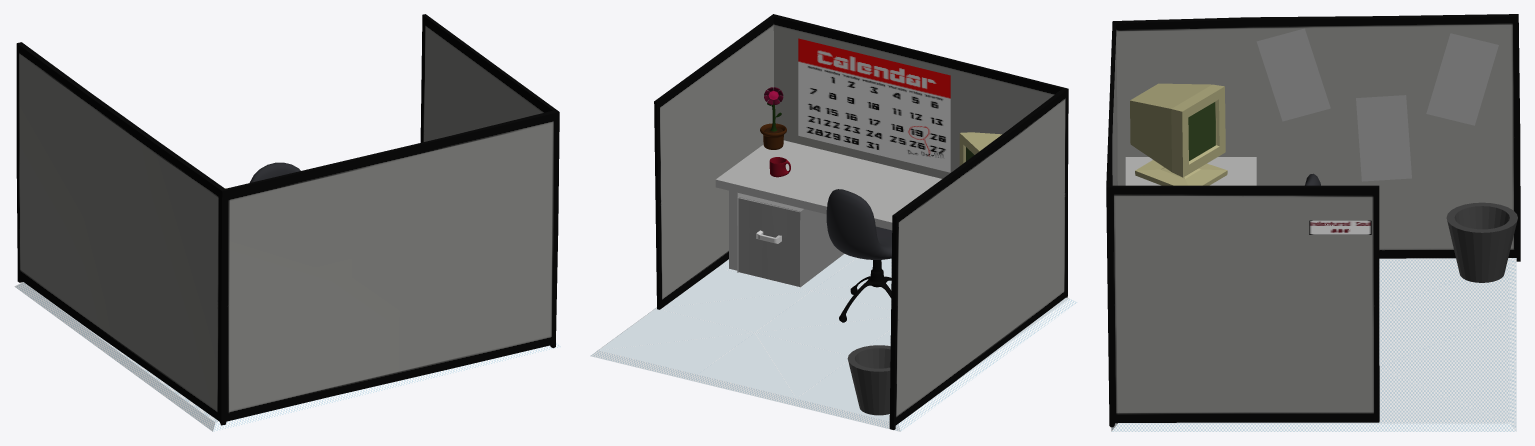
The model's file is Cubicle.fbx.
3 views of the same model, side by side, from view 1: azimuth 30°, elevation 25°; view 2: azimuth 150°, elevation 25°; view 3: azimuth 270°, elevation 25° (orthographic). The views are drawn at different scales.
Visible parts, largest first — view 1: Cubicle, Mat, Chair; view 2: Cubicle, Mat, Calander, CubicleDesk, InsideCabinet, Chair, FileCabinet, TrashCan, Comp, Plant, Pot; view 3: Cubicle, Mat, Comp, TrashCan, Poster2, Poster3, Poster1, CubicleDesk, NameTag.
Part boxes in pixels (x1=…): Cubicle: x1=16, y1=14, x2=559, y2=425; Mat: x1=14, y1=282, x2=561, y2=431; Chair: x1=249, y1=162, x2=300, y2=182; Cubicle: x1=654, y1=14, x2=1068, y2=429; Mat: x1=590, y1=254, x2=1077, y2=431; Calander: x1=798, y1=38, x2=950, y2=172; CubicleDesk: x1=715, y1=140, x2=941, y2=270; InsideCabinet: x1=738, y1=197, x2=800, y2=286; Chair: x1=826, y1=189, x2=892, y2=322; FileCabinet: x1=737, y1=194, x2=844, y2=287; TrashCan: x1=847, y1=345, x2=890, y2=415; Comp: x1=959, y1=132, x2=1001, y2=165; Plant: x1=764, y1=87, x2=783, y2=133; Pot: x1=760, y1=123, x2=786, y2=149; Cubicle: x1=1106, y1=14, x2=1520, y2=427; Mat: x1=1111, y1=258, x2=1516, y2=431; Comp: x1=1130, y1=83, x2=1227, y2=185; TrashCan: x1=1446, y1=202, x2=1517, y2=282; Poster2: x1=1356, y1=95, x2=1411, y2=181; Poster3: x1=1256, y1=28, x2=1330, y2=121; Poster1: x1=1426, y1=33, x2=1498, y2=125; CubicleDesk: x1=1125, y1=157, x2=1256, y2=185; NameTag: x1=1309, y1=220, x2=1371, y2=234.
Size of the model in its own units: 3.13 by 2.07 by 3.16.
Materials: 14 (13 with a texture image).
